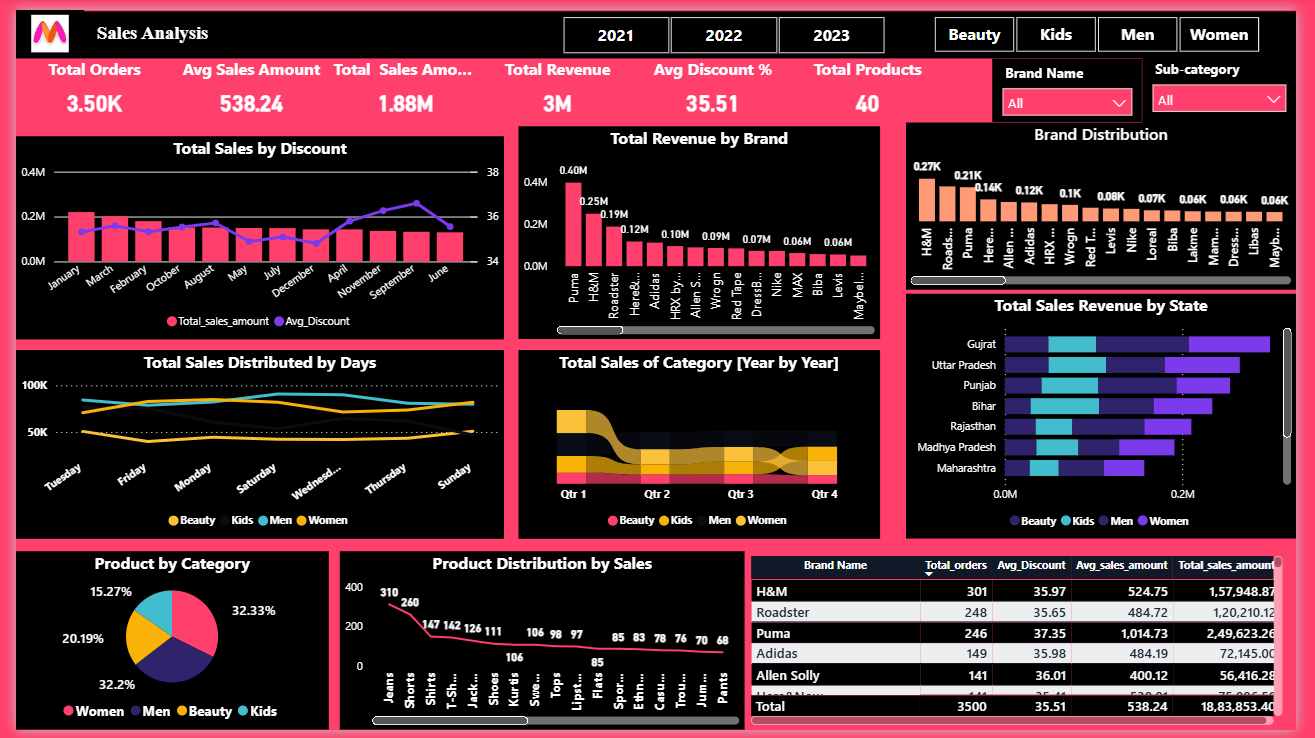

The dashboard page shown, as its layout file describes it:
{"tool":"powerbi","page":{"name":"Final Dashboard","canvas":[1280,720],"ordinal":0},"visuals":[{"type":"shape","box":[0,1.4,1280.2,47.5],"z":0},{"type":"card","title":"Total Orders","fields":{"Values":["Measures_Table.Total_orders"]},"box":[0,47.5,157,69.1],"z":1000},{"type":"card","title":"Avg Sales Amount","fields":{"Values":["Measures_Table.Avg_sales_amount"]},"box":[157,47.5,155.5,69.1],"z":2000},{"type":"card","title":"Total  Sales Amount","fields":{"Values":["Measures_Table.Total_sales_amount"]},"box":[312.5,47.5,154.1,69.1],"z":3000},{"type":"card","title":"Total Revenue","fields":{"Values":["Measures_Table.Sum_original_price"]},"box":[468,47.5,148.3,69.1],"z":4000},{"type":"card","title":"Avg Discount %","fields":{"Values":["Measures_Table.Avg_Discount"]},"box":[616.3,47.5,161.3,69.1],"z":5000},{"type":"card","title":"Total Products","fields":{"Values":["Count(dim_products.Product Name)"]},"box":[777.6,47.5,148.3,69.1],"z":6000},{"type":"slicer","fields":{"Values":["Date_table.Date.Variation.Date Hierarchy.Year"]},"box":[521.3,0,371.5,50.4],"z":7000},{"type":"lineClusteredColumnComboChart","title":"Total Sales by Discount","fields":{"Y2":["Measures_Table.Avg_Discount"],"Category":["Date_table.Month_NAME"],"Y":["Measures_Table.Total_sales_amount"]},"box":[0,126.7,488.2,203],"z":8000},{"type":"columnChart","title":"Total Revenue by Brand","fields":{"Category":["dim_products.Brand Name Hierarchy.Brand Name","dim_products.Brand Name Hierarchy.Product Name"],"Y":["Measures_Table.Sum_original_price"]},"box":[502.6,116.6,361.4,213.1],"z":9000},{"type":"lineChart","title":"Total Sales Distributed by Days","fields":{"Category":["Date_table.Day of Week"],"Y":["Measures_Table.Total_sales_amount"],"Series":["dim_products.Category"]},"box":[0,339.8,488.2,188.6],"z":10000},{"type":"pieChart","title":"Product by Category","fields":{"Y":["CountNonNull(dim_products.Product ID)"],"Category":["dim_products.Category"]},"box":[0,541.4,312.5,178.6],"z":11000},{"type":"columnChart","title":"Brand Distribution","fields":{"Category":["dim_products.Brand Name"],"Y":["CountNonNull(dim_products.Brand Name)"]},"box":[889.9,112.3,390.2,167],"z":12000},{"type":"barChart","title":"Total Sales Revenue by State","fields":{"Category":["dim_customers.State"],"Series":["dim_products.Category"],"Y":["Measures_Table.Total_sales_amount"]},"box":[889.9,283.7,390.2,244.8],"z":13000},{"type":"lineChart","title":"Product Distribution by Sales","fields":{"Category":["dim_products.Product Name"],"Y":["CountNonNull(dim_products.Product Name)"]},"box":[324,541.4,404.6,178.6],"z":14000},{"type":"slicer","title":"Category","fields":{"Values":["dim_products.Category"]},"box":[892.8,0,374.4,49],"z":15000},{"type":"slicer","title":"Brand Name","fields":{"Values":["dim_products.Brand Name"]},"box":[976.3,49,149.8,63.4],"z":16000},{"type":"slicer","title":"Sub-Category","fields":{"Values":["dim_products.Sub-category"]},"box":[1126.1,44.6,154.1,67.7],"z":17000},{"type":"tableEx","fields":{"Values":["dim_products.Brand Name","Measures_Table.Total_orders","Measures_Table.Avg_Discount","Measures_Table.Avg_sales_amount","Measures_Table.Total_sales_amount"]},"box":[728.6,541.4,542.9,178.6],"z":19000},{"type":"ribbonChart","title":"Total Sales of Category [Year by Year]","fields":{"Category":["Date_table.Date.Variation.Date Hierarchy.Year","Date_table.Date.Variation.Date Hierarchy.Quarter","Date_table.Date.Variation.Date Hierarchy.Month","Date_table.Date.Variation.Date Hierarchy.Day"],"Series":["dim_products.Category"],"Y":["Sum(fact_orders.Sales Amount)"]},"box":[502.6,339.8,361.4,188.6],"z":20000},{"type":"image","box":[0,0,67.7,47.5],"z":21000},{"type":"textbox","box":[67.7,7.2,138.2,37.4],"z":22000}]}

Visuals, with their boxes in screenshot pixels (x1, y1, x2, y2), scaled from the page's 1280x720 canvas onto the 1315x738 screenshot:
shape: left=0, top=1, right=1314, bottom=50
"Total Orders" card: left=0, top=49, right=161, bottom=120
"Avg Sales Amount" card: left=161, top=49, right=321, bottom=120
"Total  Sales Amount" card: left=321, top=49, right=479, bottom=120
"Total Revenue" card: left=481, top=49, right=633, bottom=120
"Avg Discount %" card: left=633, top=49, right=799, bottom=120
"Total Products" card: left=799, top=49, right=951, bottom=120
slicer - Date_table.Date.Variation.Date Hierarchy.Year: left=536, top=0, right=917, bottom=52
"Total Sales by Discount" lineClusteredColumnComboChart: left=0, top=130, right=502, bottom=338
"Total Revenue by Brand" columnChart: left=516, top=120, right=888, bottom=338
"Total Sales Distributed by Days" lineChart: left=0, top=348, right=502, bottom=542
"Product by Category" pieChart: left=0, top=555, right=321, bottom=737
"Brand Distribution" columnChart: left=914, top=115, right=1314, bottom=286
"Total Sales Revenue by State" barChart: left=914, top=291, right=1314, bottom=542
"Product Distribution by Sales" lineChart: left=333, top=555, right=749, bottom=737
"Category" slicer: left=917, top=0, right=1302, bottom=50
"Brand Name" slicer: left=1003, top=50, right=1157, bottom=115
"Sub-Category" slicer: left=1157, top=46, right=1314, bottom=115
tableEx - dim_products.Brand Name x Measures_Table.Total_orders: left=749, top=555, right=1306, bottom=737
"Total Sales of Category [Year by Year]" ribbonChart: left=516, top=348, right=888, bottom=542
image: left=0, top=0, right=70, bottom=49
textbox: left=70, top=7, right=212, bottom=46
